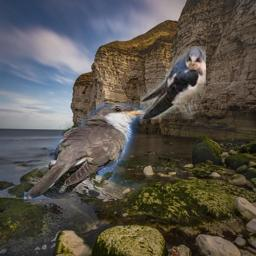Cuckoo: (24, 103, 154, 199)
Swallow: (140, 46, 206, 119)
